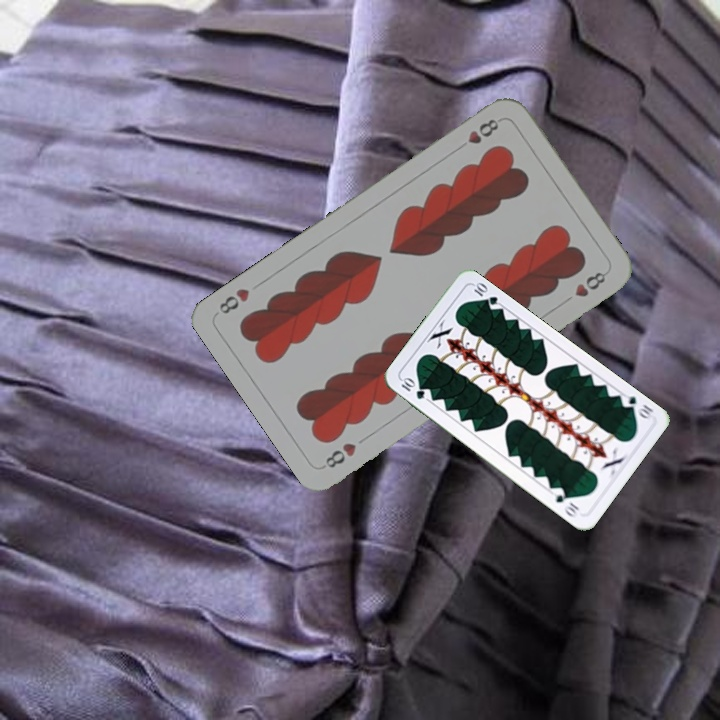G10: (617, 392, 656, 423), (397, 374, 428, 402)
H8: (319, 438, 359, 471), (463, 114, 502, 147)
